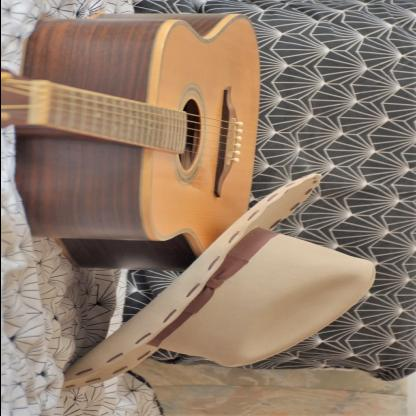hat: (57, 170, 381, 394)
